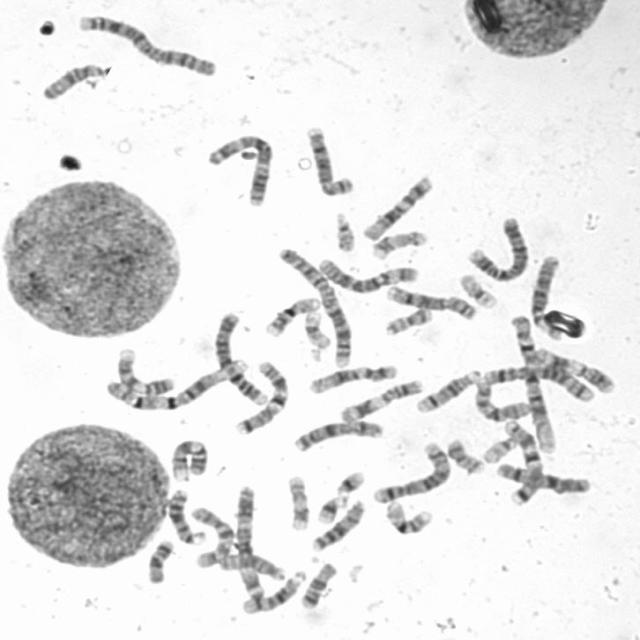A1: (102, 352, 251, 412), (508, 311, 560, 455)
A2: (274, 243, 356, 369), (74, 9, 220, 78)
A3: (203, 129, 277, 207), (230, 482, 265, 604)
B4: (210, 308, 270, 407), (463, 212, 532, 284)
B5: (368, 437, 454, 505), (478, 362, 600, 403)
C10: (187, 502, 236, 570), (470, 376, 533, 423)
C11: (335, 374, 425, 425), (532, 344, 619, 395)
C12: (359, 171, 436, 242), (305, 360, 400, 395)
C6: (316, 254, 420, 294), (526, 250, 564, 334)
C7: (231, 357, 292, 436), (500, 416, 545, 506)
C8: (302, 121, 357, 198), (382, 281, 479, 321)
C9: (113, 345, 175, 397), (167, 435, 210, 482)
D13: (308, 496, 368, 552), (164, 483, 209, 545)
D14: (412, 366, 484, 414), (238, 566, 308, 615)
D15: (38, 58, 107, 102), (215, 548, 288, 582)
E16: (261, 291, 323, 338), (380, 495, 435, 536)
E17: (366, 226, 429, 260), (283, 470, 313, 532)
E18: (297, 558, 339, 610), (143, 535, 176, 585)
F19: (456, 269, 500, 310), (300, 307, 333, 351)
F20: (442, 434, 487, 476), (380, 303, 435, 337)
G21: (312, 490, 351, 525), (332, 466, 368, 496)
G22: (478, 432, 520, 463), (330, 208, 358, 254)
X: (289, 414, 387, 454), (494, 458, 594, 497)
